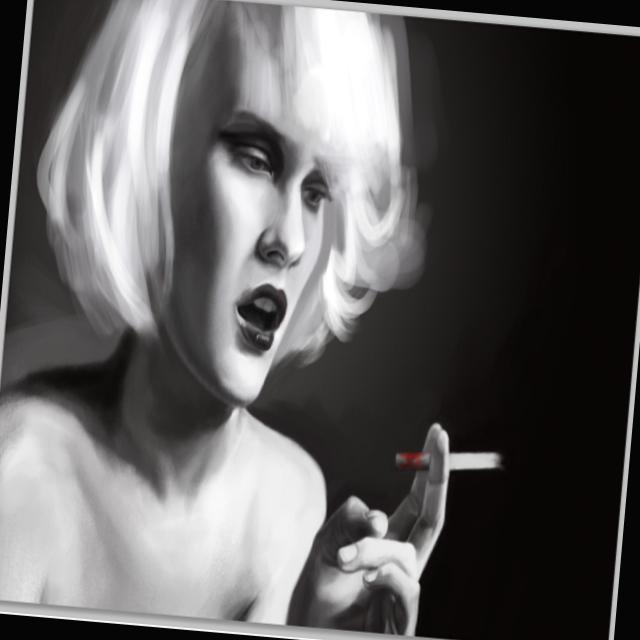smoke: (392, 434, 506, 485)
